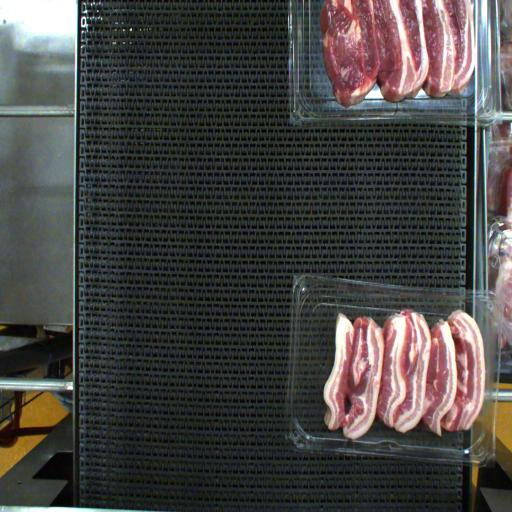packaging-error: (315, 416, 382, 473)
